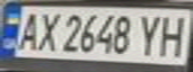2: (60, 10, 84, 54)
4: (97, 11, 118, 55)
6: (78, 10, 100, 54)
8: (112, 11, 139, 55)
A: (12, 9, 45, 52)
H: (154, 11, 193, 57)
X: (33, 9, 63, 52)
Y: (133, 11, 166, 56)
